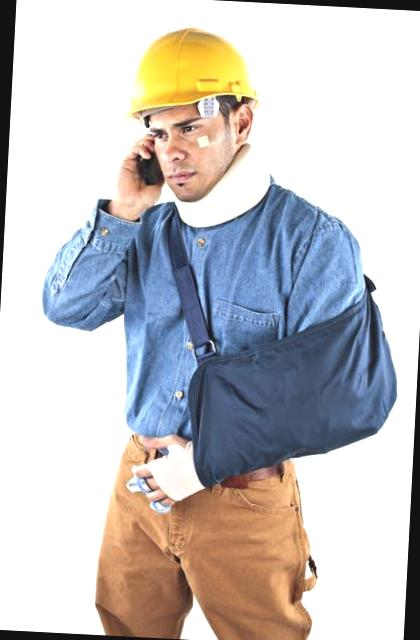helmet: (101, 23, 275, 138)
no_vest: (74, 176, 355, 456)
person: (22, 24, 405, 640)
